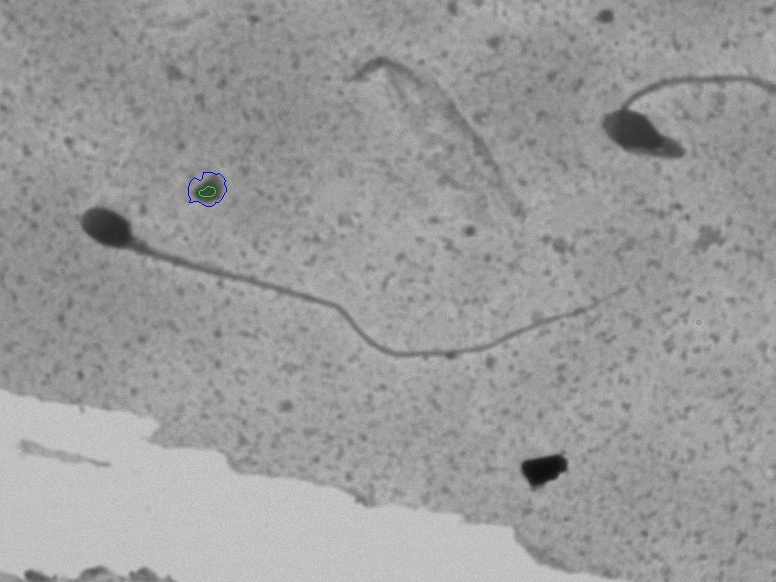Abnormal: (591, 50, 769, 197)
Normal: (55, 190, 658, 399)
